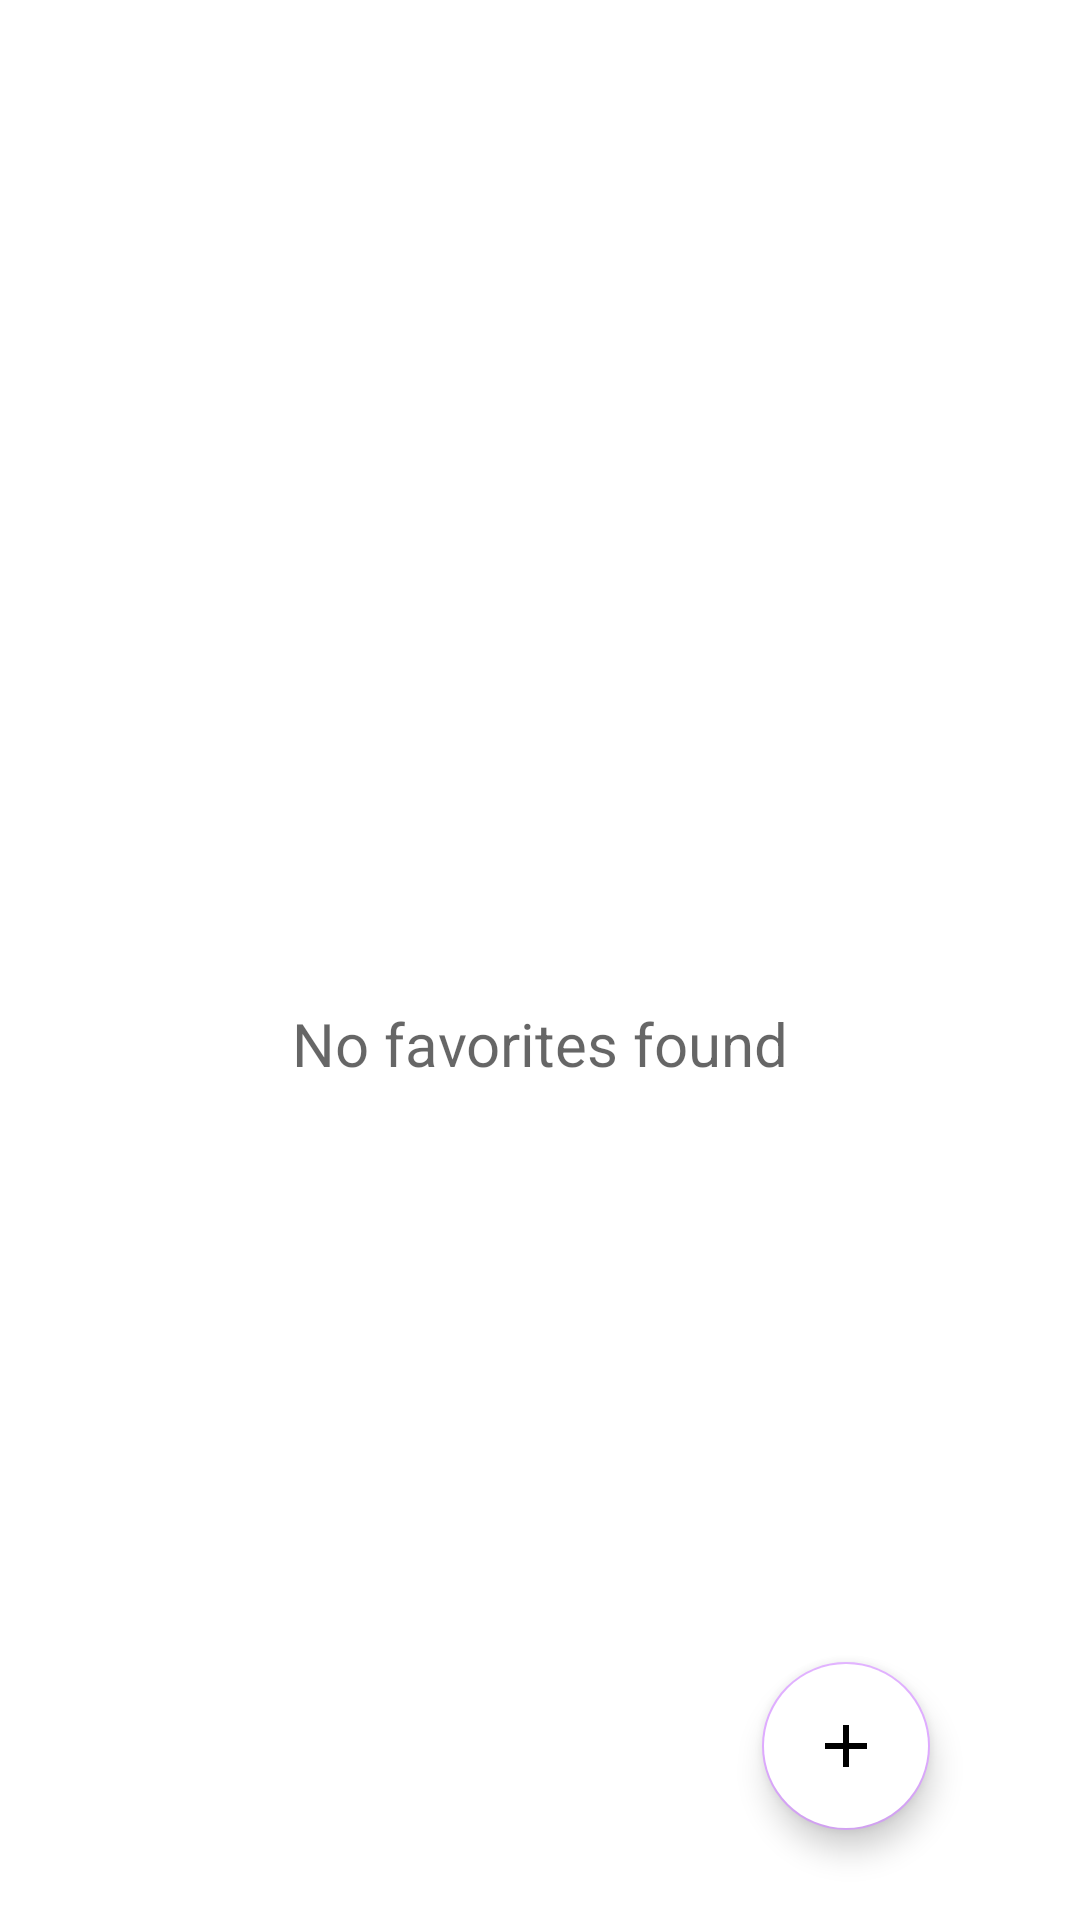

Locate icon controls on the screen. Image size 1080 x 1920, boxes as detection(x1, y1, x2, y2).
Add translation: detection(762, 1662, 930, 1830)
